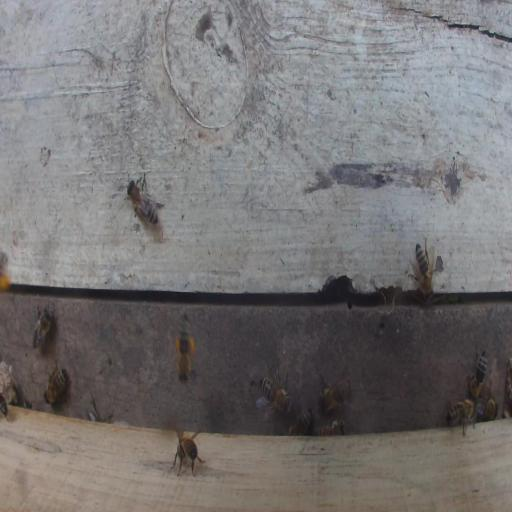bee: (126, 171, 165, 228), (407, 239, 435, 301), (171, 429, 206, 478), (175, 311, 195, 386), (261, 375, 292, 414), (446, 398, 477, 435), (319, 377, 351, 411), (467, 347, 487, 401), (44, 362, 68, 405), (32, 306, 54, 349), (288, 407, 313, 435), (314, 418, 346, 436), (477, 397, 498, 421), (0, 393, 8, 421)
